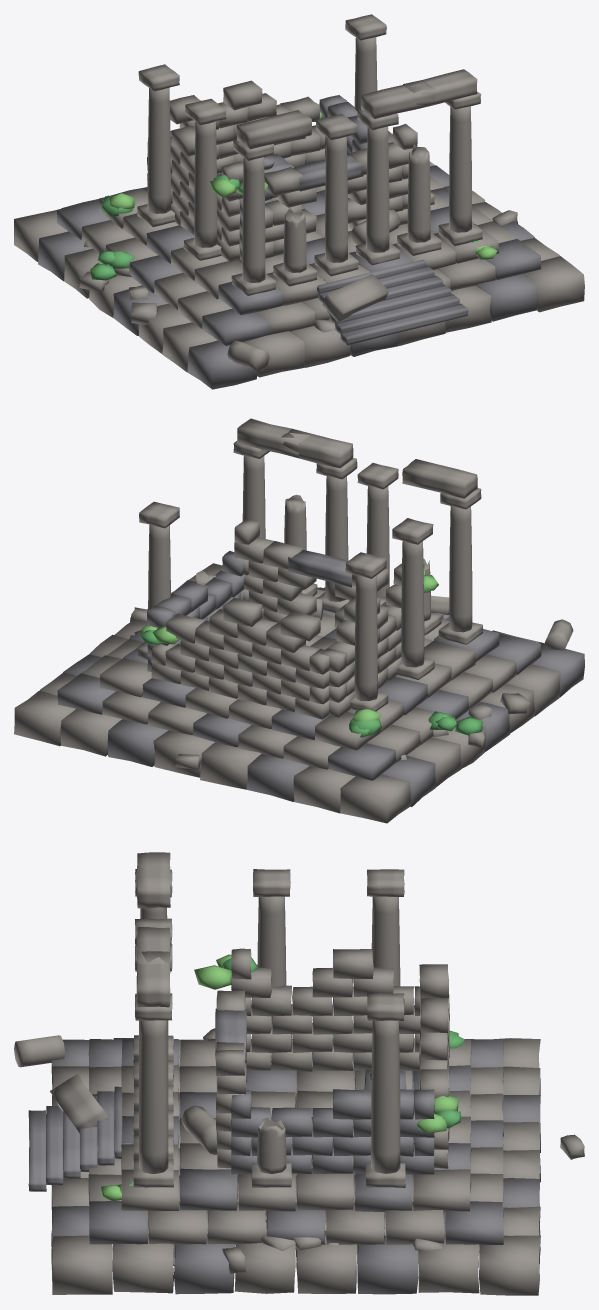
The model's file is poi_ruin_temple.glb.
3 views of the same model, one above another, from view 1: azimuth 30°, elevation 25°; view 2: azimuth 150°, elevation 25°; view 3: azimuth 270°, elevation 25° (orthographic). The views are drawn at different scales.
Parts seen in each view (by area): view 1: poi_ruin_temple; view 2: poi_ruin_temple; view 3: poi_ruin_temple.
Boxes of the visible parts, left/top/right/bottom form: poi_ruin_temple: left=14, top=14, right=584, bottom=389; poi_ruin_temple: left=14, top=418, right=584, bottom=823; poi_ruin_temple: left=14, top=852, right=584, bottom=1295.
Size of the model in its own units: 13.76 by 7.14 by 14.02.
